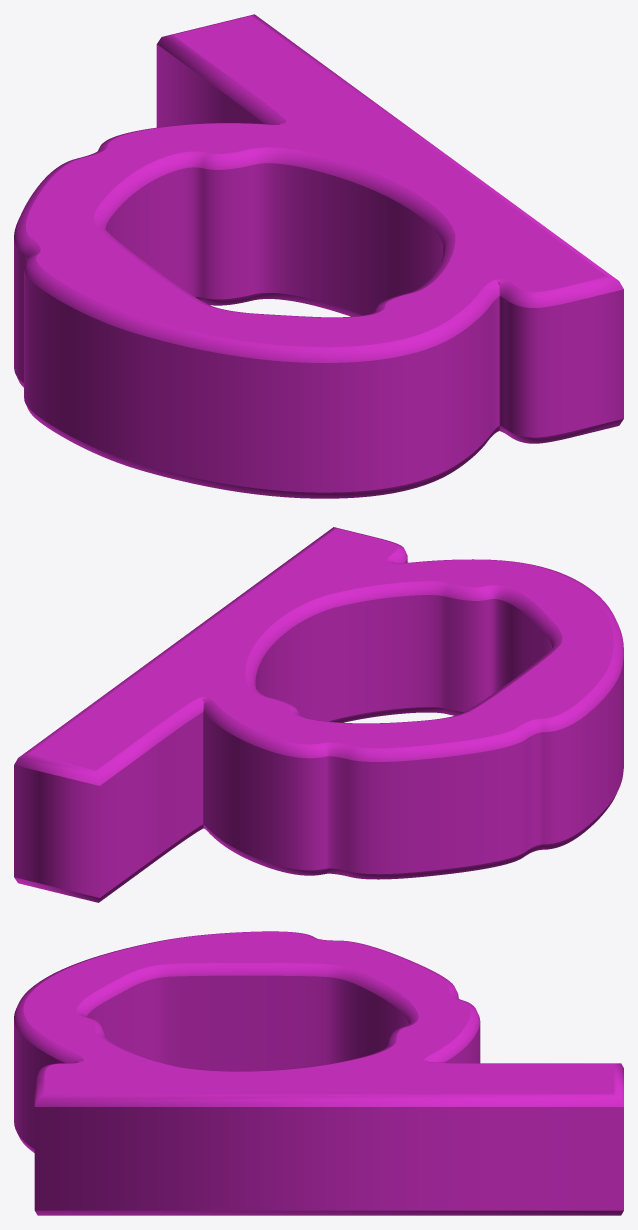
File: Blocky_Letter_p.fbx
The picture shows the model from 3 angles, top to bottom: view 1: azimuth 30°, elevation 25°; view 2: azimuth 150°, elevation 25°; view 3: azimuth 270°, elevation 25°; orthographic projection. The views are drawn at different scales.
Visible parts, largest first — view 1: BlockyLetter_p; view 2: BlockyLetter_p; view 3: BlockyLetter_p.
Boxes of the visible parts, x1,y1,x2,y2 form: BlockyLetter_p: (14, 14, 623, 498); BlockyLetter_p: (14, 527, 623, 902); BlockyLetter_p: (14, 931, 623, 1215).
Size of the model in its own units: 0.4235 by 0.14 by 0.6398.
